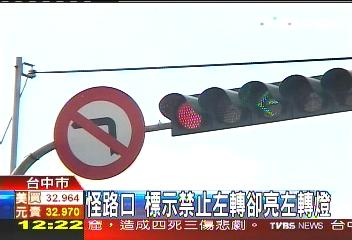no_left_turn: (52, 85, 143, 180)
